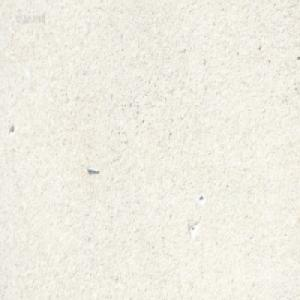Nail: (86, 164, 99, 173)
